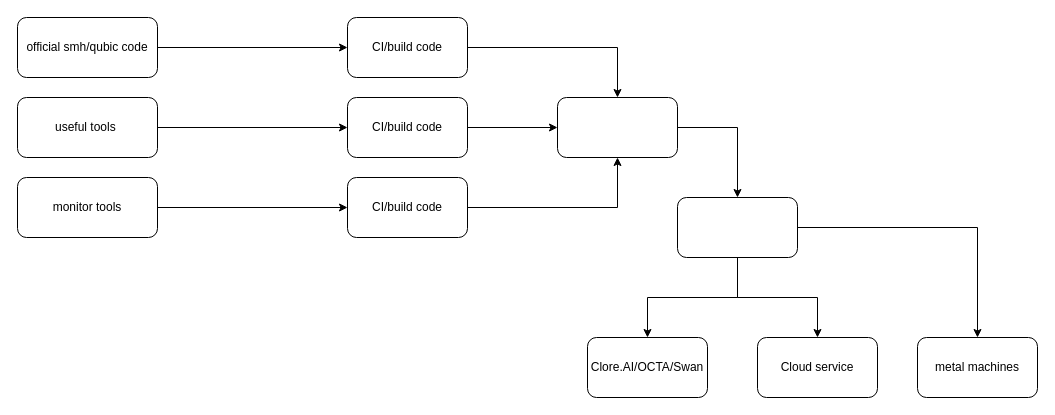
The diagram is 1055 pixels wide and 415 high, and some of its shapes have lost their labels. Each missing label, with the centre of its shape:
"docker / compose" goes at point 617,127.
"docker image and push into Package" goes at point 737,227.
